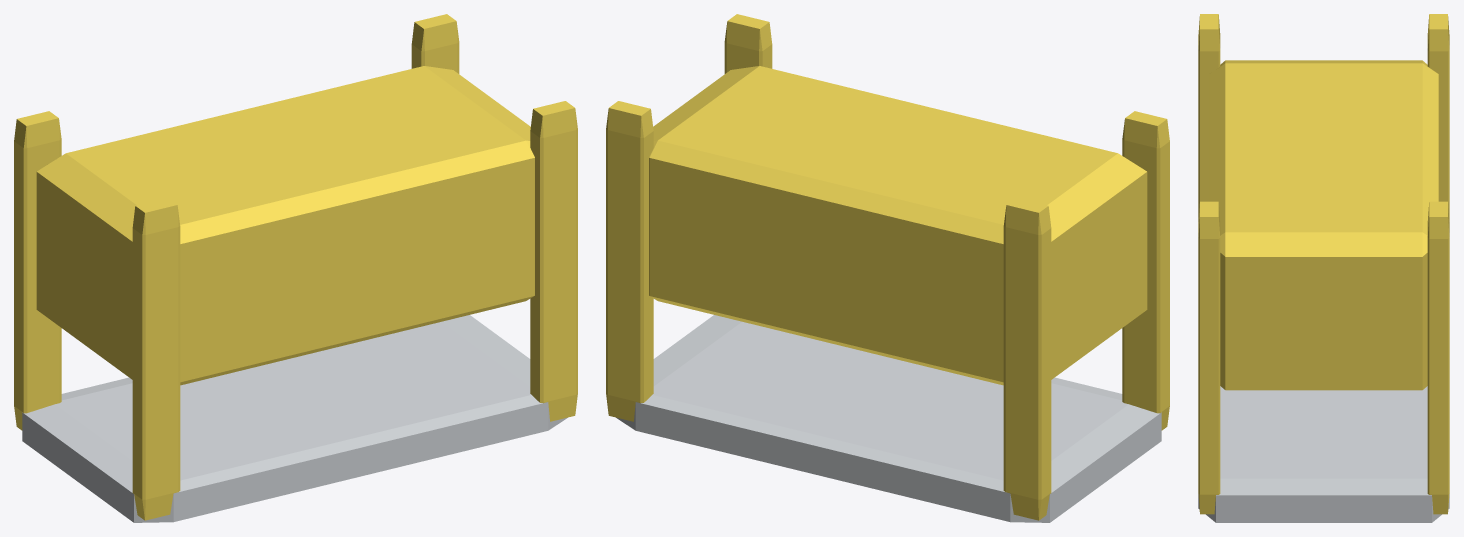
Rendered from b07_heavy_jobsite_gang_box.glb.
3 views of the same model, side by side, from view 1: azimuth 30°, elevation 25°; view 2: azimuth 150°, elevation 25°; view 3: azimuth 270°, elevation 25° (orthographic). The views are drawn at different scales.
Visible parts, largest first — view 1: b07_heavy_jobsite_gang_box; view 2: b07_heavy_jobsite_gang_box; view 3: b07_heavy_jobsite_gang_box.
Boxes of the visible parts, bbox=[...] form: b07_heavy_jobsite_gang_box: bbox=[14, 14, 577, 522]; b07_heavy_jobsite_gang_box: bbox=[606, 14, 1169, 522]; b07_heavy_jobsite_gang_box: bbox=[1198, 14, 1449, 522].
Size of the model in its own units: 1.69 by 1.18 by 0.872.
